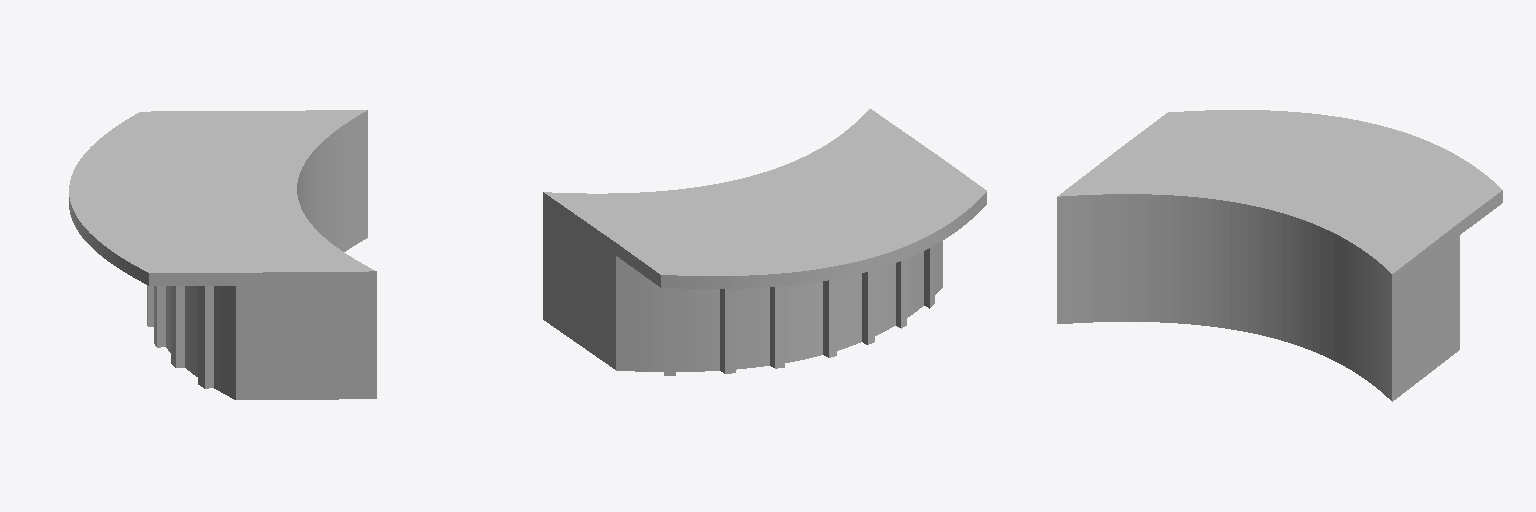
File: bar_withoutdrinks.obj
The picture shows the model from 3 angles: view 1: azimuth 30°, elevation 25°; view 2: azimuth 150°, elevation 25°; view 3: azimuth 270°, elevation 25°; orthographic projection.
Parts seen in each view (by area): view 1: desk_Cube.000_Cube.005; view 2: desk_Cube.000_Cube.005; view 3: desk_Cube.000_Cube.005.
Part boxes in pixels (left/top/right/bottom): desk_Cube.000_Cube.005: left=69, top=110, right=376, bottom=399; desk_Cube.000_Cube.005: left=543, top=109, right=986, bottom=375; desk_Cube.000_Cube.005: left=1057, top=110, right=1502, bottom=401.
Size of the model in its own units: 5.53 by 2 by 6.33.